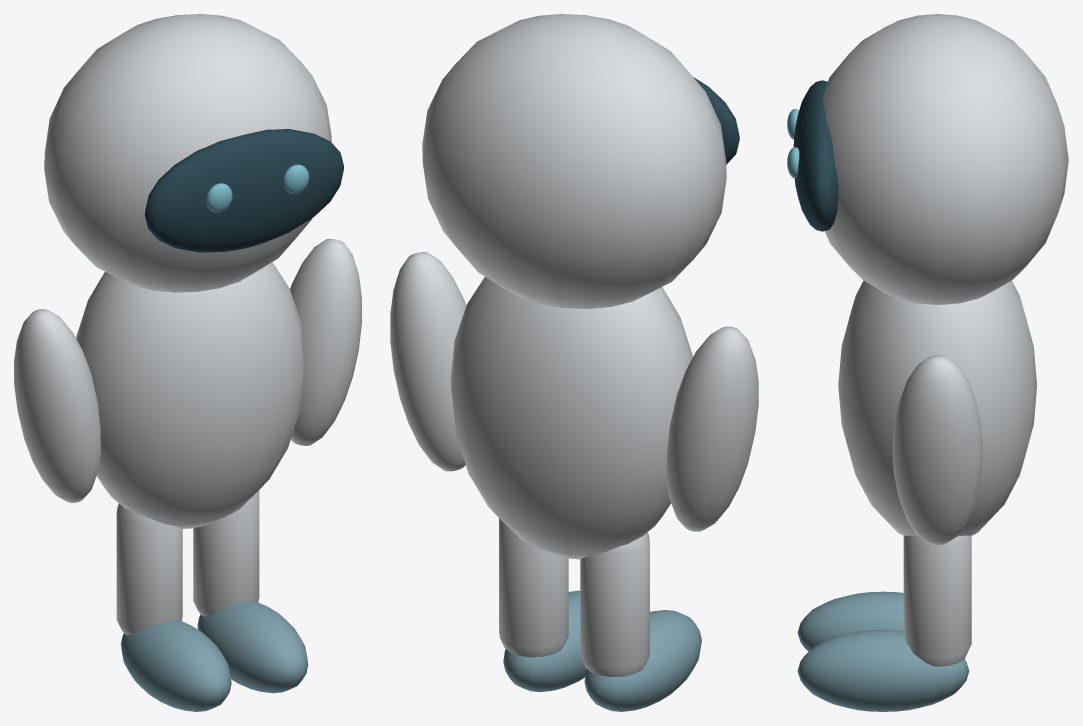
File: agent.glb
3 renders of one model, left to right at view 1: azimuth 30°, elevation 25°; view 2: azimuth 150°, elevation 25°; view 3: azimuth 270°, elevation 25°, orthographic. The views are drawn at different scales.
Visible parts, largest first — view 1: Agent_head, Agent_body, Agent_visor, Agent_arm, Agent_arm.001, Agent_foot, Agent_leg, Agent_foot.001, Agent_leg.001, Agent_eye, Agent_eye.001; view 2: Agent_head, Agent_body, Agent_arm, Agent_arm.001, Agent_leg, Agent_leg.001, Agent_foot, Agent_foot.001, Agent_visor; view 3: Agent_head, Agent_body, Agent_arm.001, Agent_foot.001, Agent_leg.001, Agent_visor, Agent_foot.
Part boxes in pixels (x1,y1,x2,y2): Agent_head: (44,14,331,292); Agent_body: (76,262,304,528); Agent_visor: (144,129,343,252); Agent_arm: (14,309,101,502); Agent_arm.001: (290,239,361,445); Agent_foot: (121,620,231,711); Agent_leg: (116,503,182,635); Agent_foot.001: (197,601,308,693); Agent_leg.001: (193,490,259,616); Agent_eye: (206,183,232,212); Agent_eye.001: (283,164,309,193); Agent_head: (422,14,726,308); Agent_body: (450,277,692,559); Agent_arm: (666,326,758,531); Agent_arm.001: (390,252,466,471); Agent_leg: (580,532,649,676); Agent_leg.001: (499,518,568,657); Agent_foot: (584,610,701,711); Agent_foot.001: (503,590,586,691); Agent_visor: (693,77,739,164); Agent_head: (822,14,1068,304); Agent_body: (838,280,1037,536); Agent_arm.001: (892,355,982,545); Agent_foot.001: (797,630,969,711); Agent_leg.001: (903,535,971,666); Agent_visor: (793,80,838,231); Agent_foot: (797,591,903,651).
Size of the model in its own units: 0.8781 by 1.61 by 0.623.
